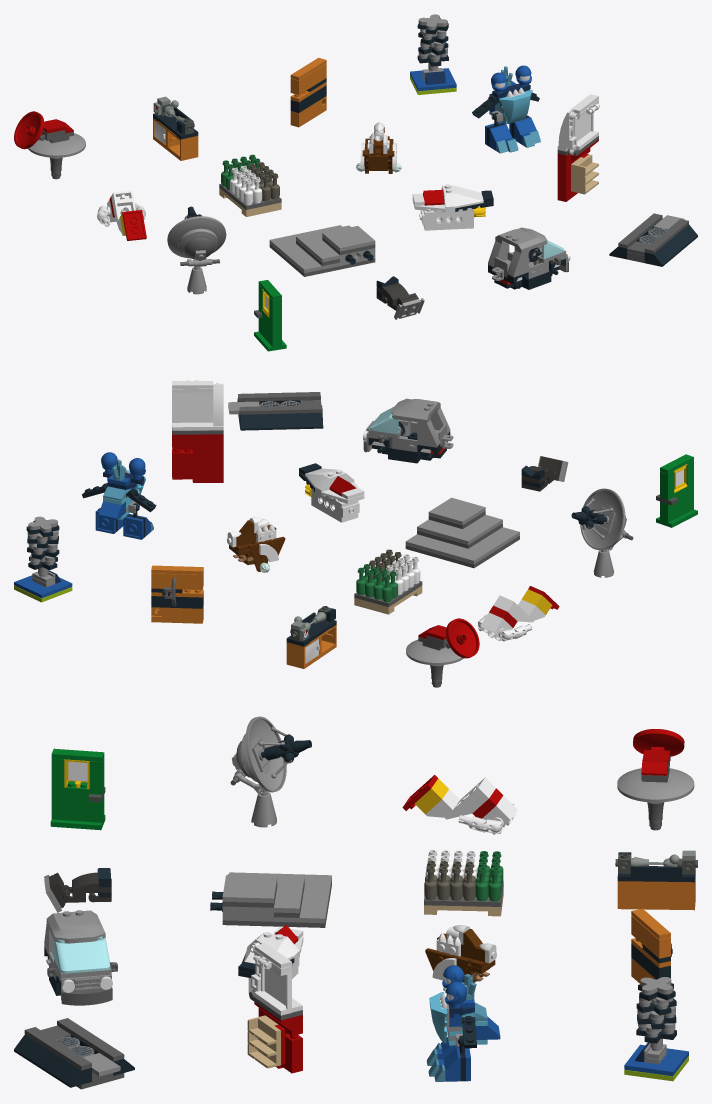
The picture shows the model from 3 angles, top to bottom: view 1: azimuth 30°, elevation 25°; view 2: azimuth 150°, elevation 25°; view 3: azimuth 270°, elevation 25°; orthographic projection. The views are drawn at different scales.
Visible parts, largest first — view 1: 44375a (×2), 4445, 3960, 45677, 6069, 64225, 4532, 60581, 3021; view 2: 44375a (×2), 4162 (×2), 4445, 60581, 3960, 45677, 6069, 4532, 41539, 3010, 57783, 60481a; view 3: 44375a (×2), 4532 (×2), 4162 (×2), 57783, 4445, 45677, 60581, 3960, 3010, 6069, 93273, 3942b (+3 smaller).
Part boxes in pixels (x1,y1,x2,y2): 44375a (×2): (28, 133, 226, 258); 4445: (644, 224, 697, 266); 3960: (14, 111, 44, 149); 45677: (495, 227, 547, 253); 6069: (441, 184, 483, 208); 64225: (499, 89, 532, 123); 4532: (167, 128, 198, 160); 60581: (573, 113, 598, 150); 3021: (122, 210, 146, 240); 44375a (×2): (406, 488, 625, 665); 4162 (×2): (238, 392, 322, 414); 4445: (239, 411, 323, 430); 60581: (172, 392, 213, 422); 3960: (446, 618, 479, 658); 45677: (391, 398, 440, 423); 6069: (305, 468, 354, 491); 4532: (286, 636, 320, 668); 41539: (405, 535, 519, 568); 3010: (161, 605, 203, 619); 57783: (370, 406, 398, 434); 60481a: (417, 420, 440, 447); 44375a (×2): (245, 716, 694, 802); 4532 (×2): (617, 874, 695, 910); 4162 (×2): (24, 1018, 124, 1070); 57783: (54, 936, 110, 973); 4445: (14, 1034, 91, 1087); 45677: (46, 910, 105, 943); 60581: (254, 966, 291, 1015); 3960: (633, 729, 684, 756); 3010: (51, 804, 104, 822); 6069: (244, 932, 299, 963); 93273: (61, 987, 112, 1005); 3942b: (251, 791, 276, 827).
Size of the model in its own units: 1060 by 200 by 1064.
